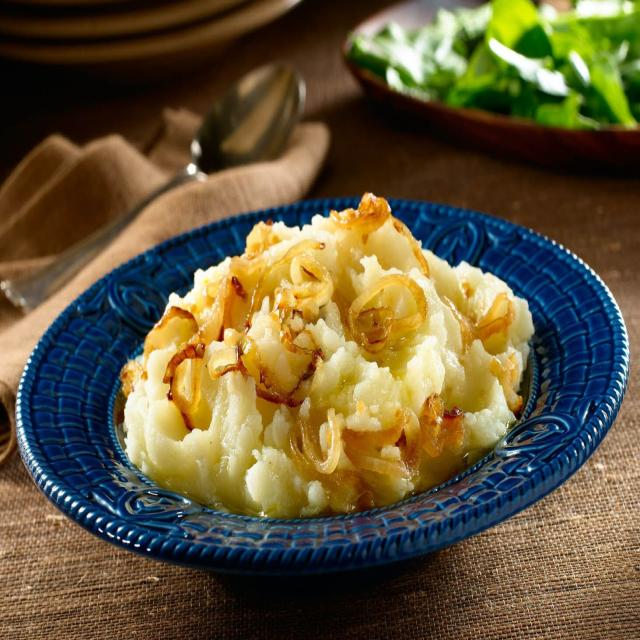papa: (112, 203, 541, 523)
